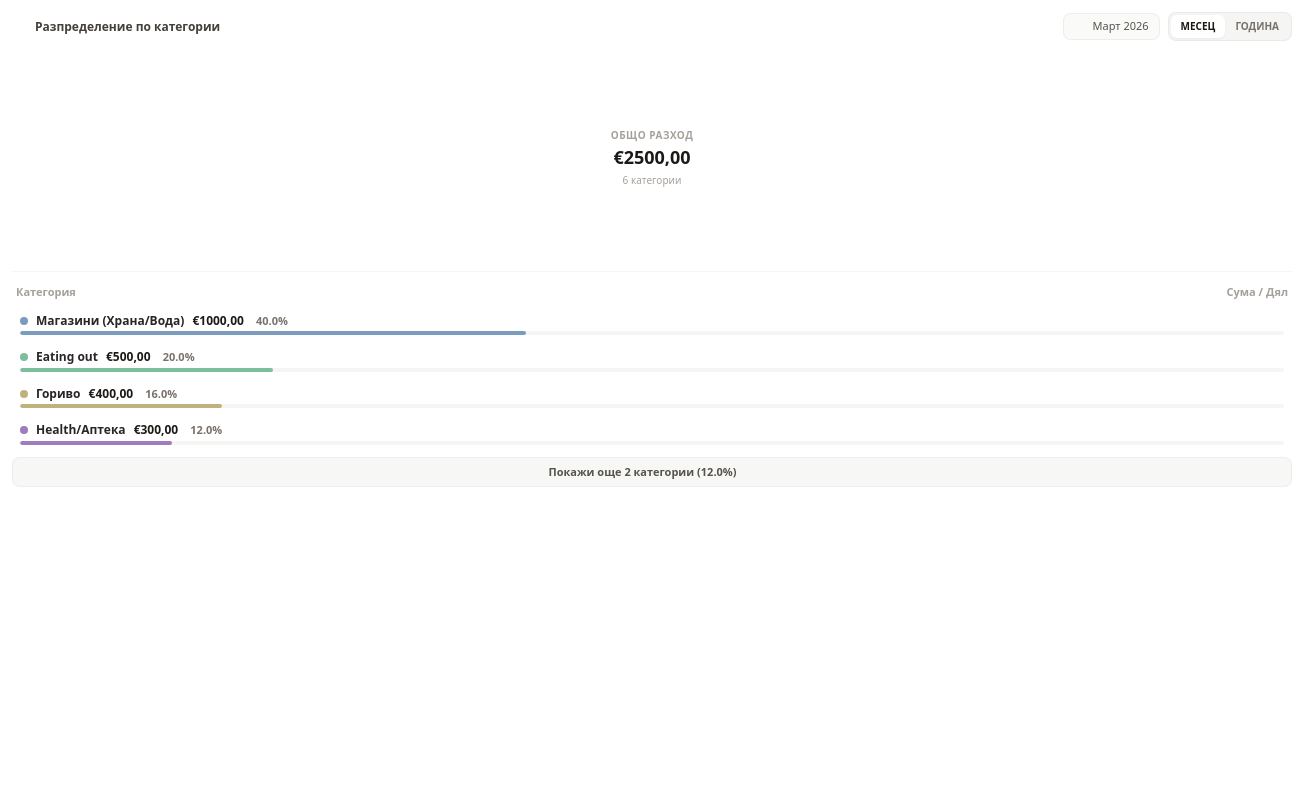
CategoryChart – Mobile-First Category Spending Breakdown › expands and collapses remaining categories when toggle button is clicked
This screenshot has width=1304, height=812.
Expected: the text "Home" is not shown
// Click expand
Click the button "Покажи още 2 категории (12.0%)" at (652, 472), box x1=12 y1=456 x2=1292 y2=487
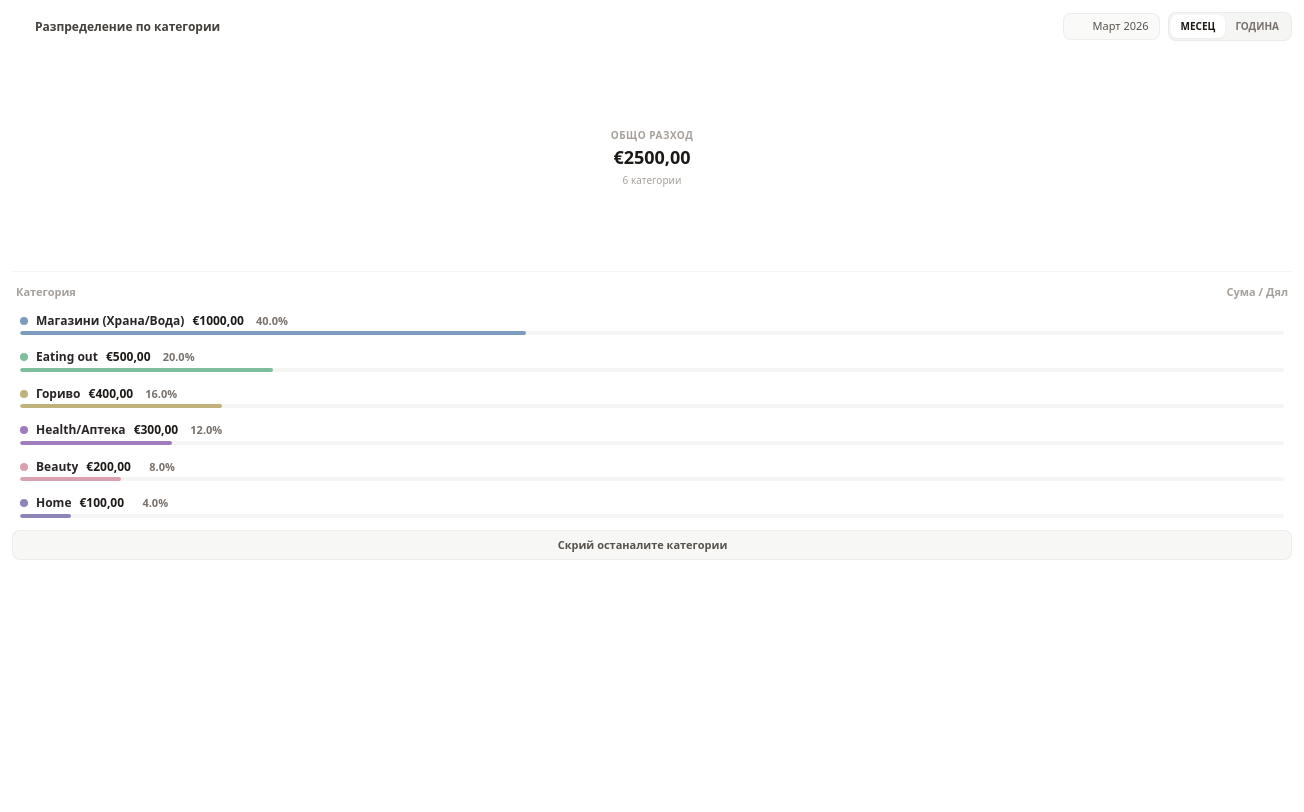
Now the text "Home" is shown, box x1=36 y1=495 x2=72 y2=511
Now the text "Beauty" is shown, box x1=36 y1=459 x2=78 y2=475
Now the button "Скрий останалите категории" is shown
// Click collapse
Click the button "Скрий останалите категории" at (652, 545), box x1=12 y1=530 x2=1292 y2=560
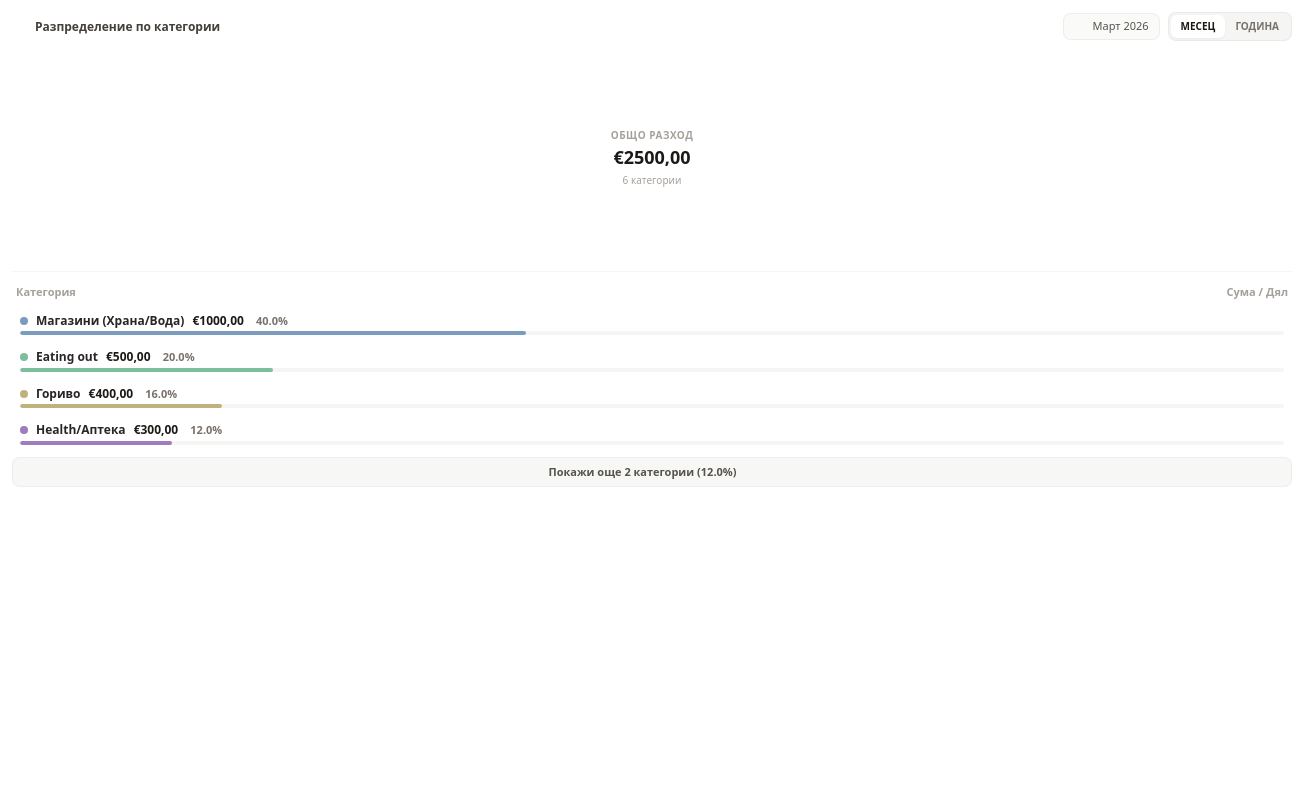
Now the button "Home" is gone
